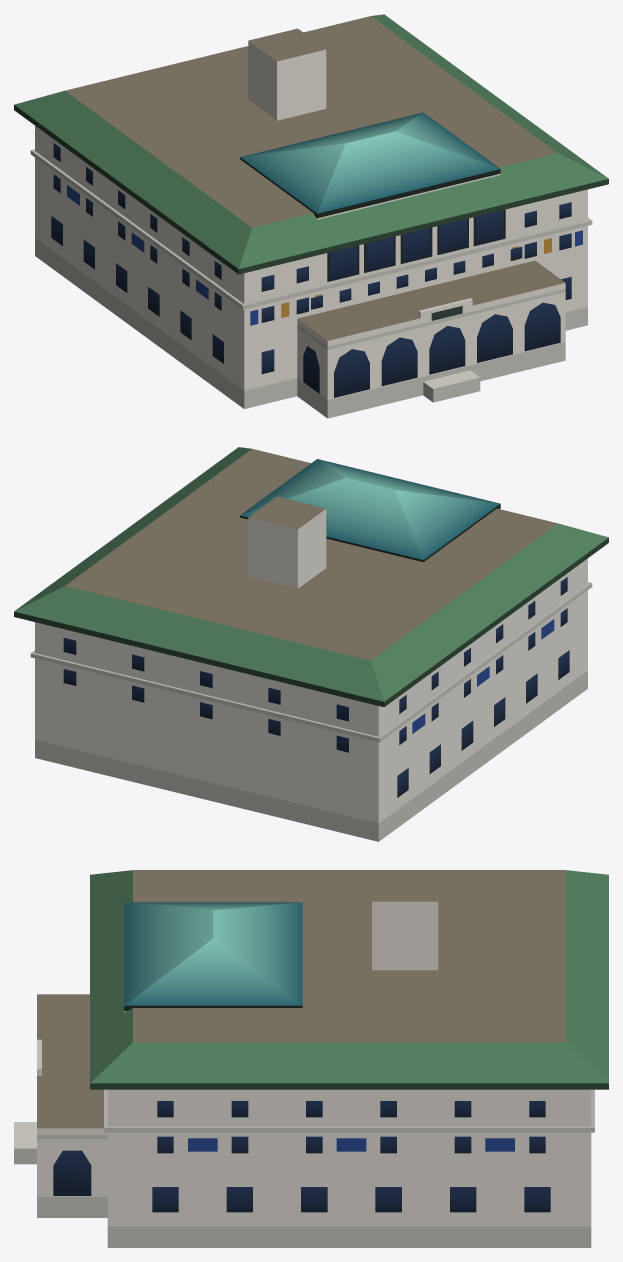
Rendered from maurice.glb.
3 renders of one model, top to bottom at view 1: azimuth 30°, elevation 25°; view 2: azimuth 150°, elevation 25°; view 3: azimuth 270°, elevation 25°, orthographic. The views are drawn at different scales.
Parts seen in each view (by area): view 1: Maurice; view 2: Maurice; view 3: Maurice.
Part boxes in pixels (<box>): Maurice: <box>14,14,608,418</box>; Maurice: <box>14,447,608,841</box>; Maurice: <box>14,870,608,1247</box>.
Bounding box in the file's own units: 29.87 × 17.57 × 35.99.
